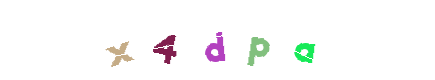4: (160, 0, 240, 80)
A: (265, 0, 345, 80)
D: (175, 0, 255, 80)
P: (177, 0, 257, 80)
X: (126, 0, 206, 80)
